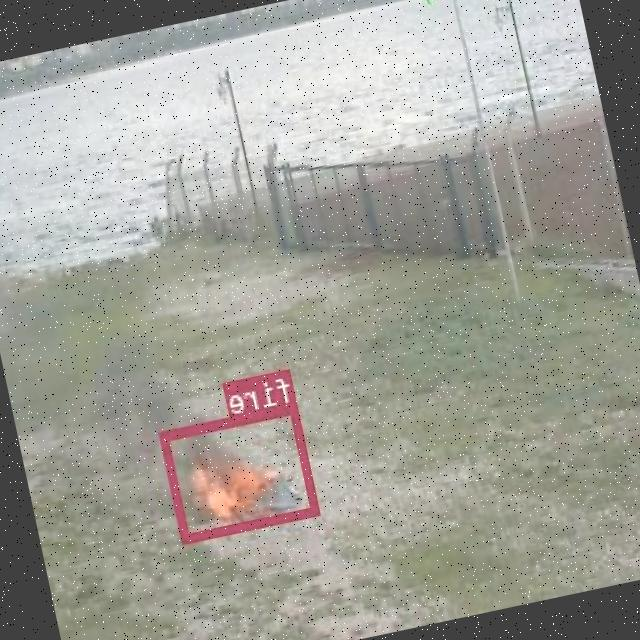fire: (160, 399, 322, 540)
